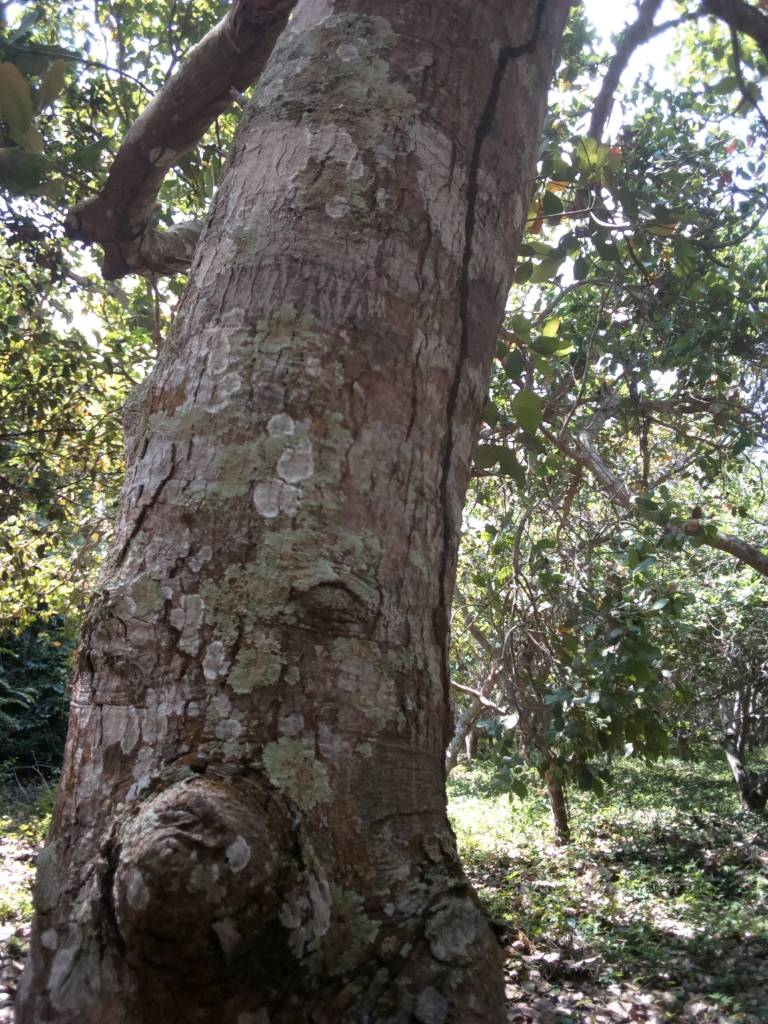Termites: (440, 244, 466, 707), (465, 35, 530, 207)
